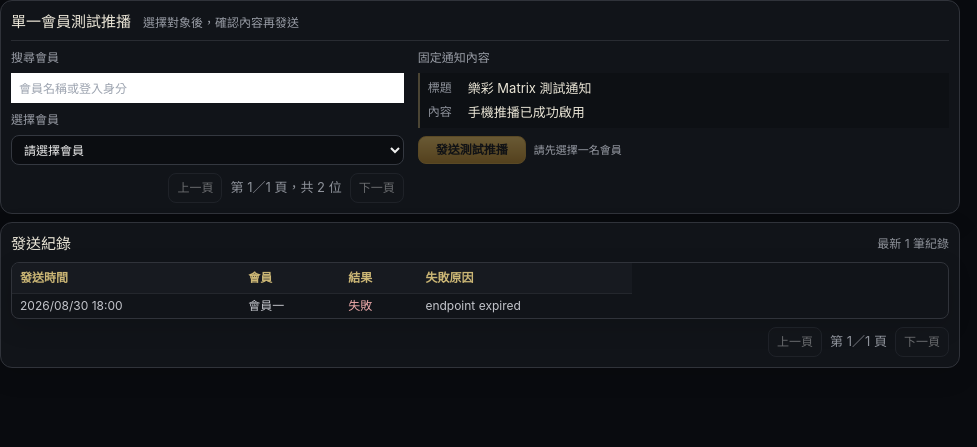
Test: NotificationManagement › re-enables sending after server confirmation without waiting for the log refresh
Select "會員一" in the dropdown named "選擇會員" at (207, 150), box [11, 135, 404, 165]
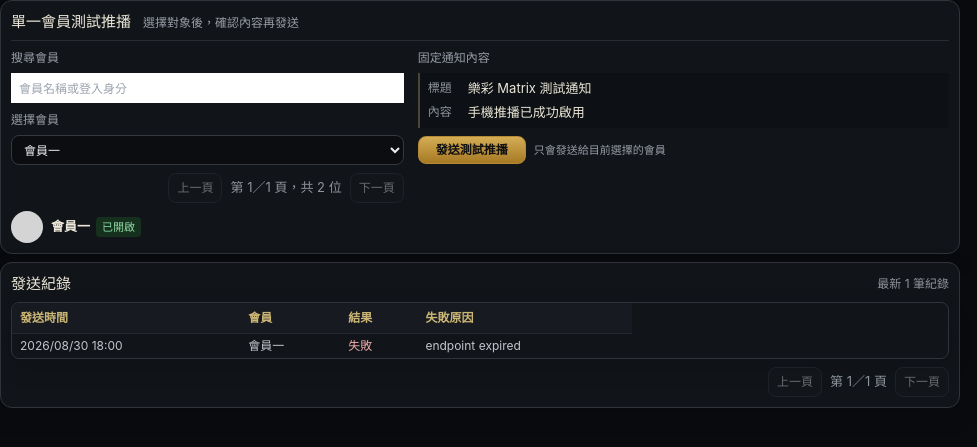
Click the button "發送測試推播".
click(472, 150)  # box [418, 136, 526, 164]
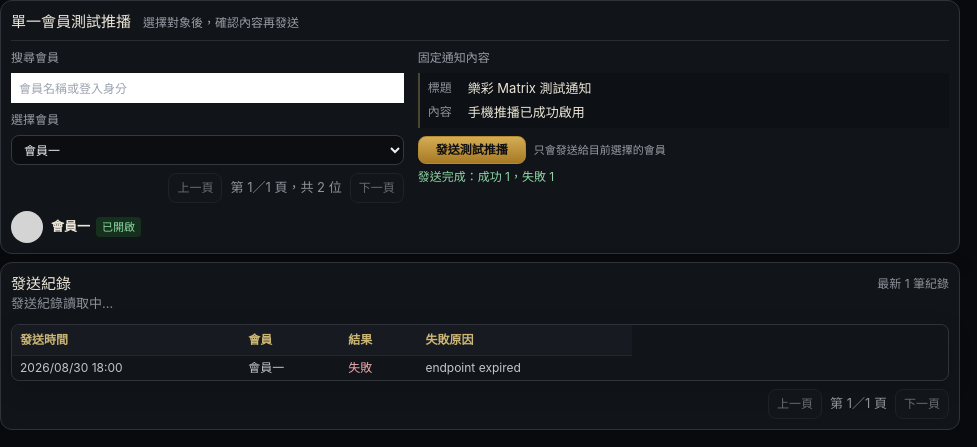
Expected: the button "發送測試推播" is enabled, [418, 136, 526, 164]
Expected: the text "發送完成：成功 1，失敗 1" is shown, [418, 169, 554, 184]
